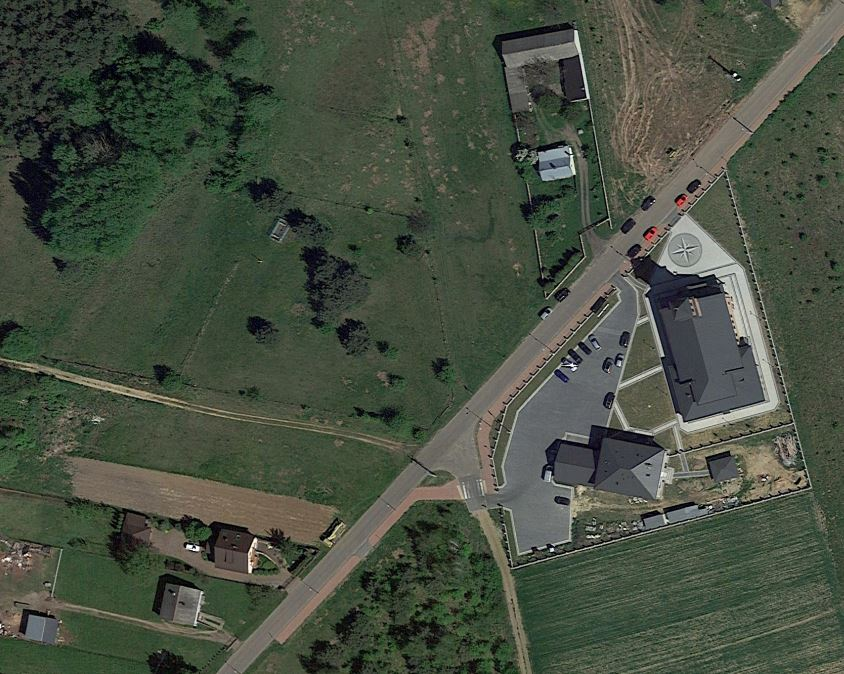family house: (540, 431, 674, 509), (208, 519, 262, 580), (152, 578, 209, 634), (530, 138, 581, 183)
garage: (638, 257, 787, 426)
